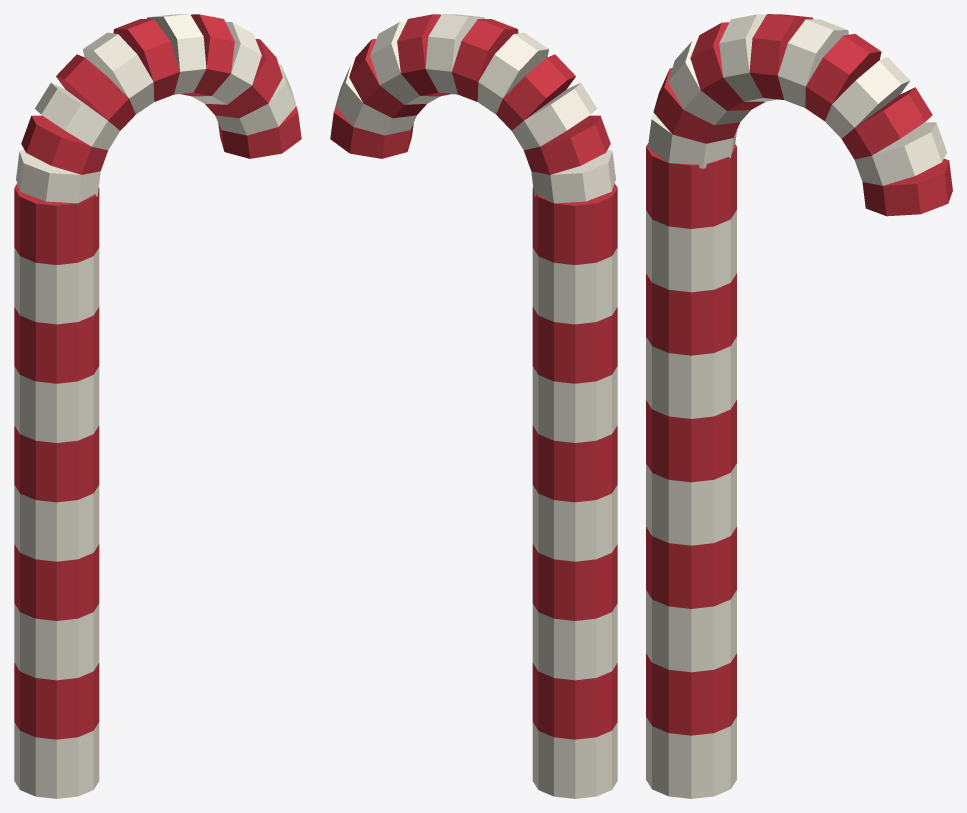
The model's file is candycane.glb.
The picture shows the model from 3 angles, left to right: view 1: azimuth 30°, elevation 25°; view 2: azimuth 150°, elevation 25°; view 3: azimuth 330°, elevation 25°; orthographic projection. The views are drawn at different scales.
Visible parts, largest first — view 1: candy-cane; view 2: candy-cane; view 3: candy-cane.
Boxes of the visible parts, x1,y1,x2,y2 form: candy-cane: (14, 14, 301, 798); candy-cane: (330, 14, 617, 798); candy-cane: (646, 14, 952, 798).
Size of the model in its own units: 0.4894 by 1.24 by 0.13.
